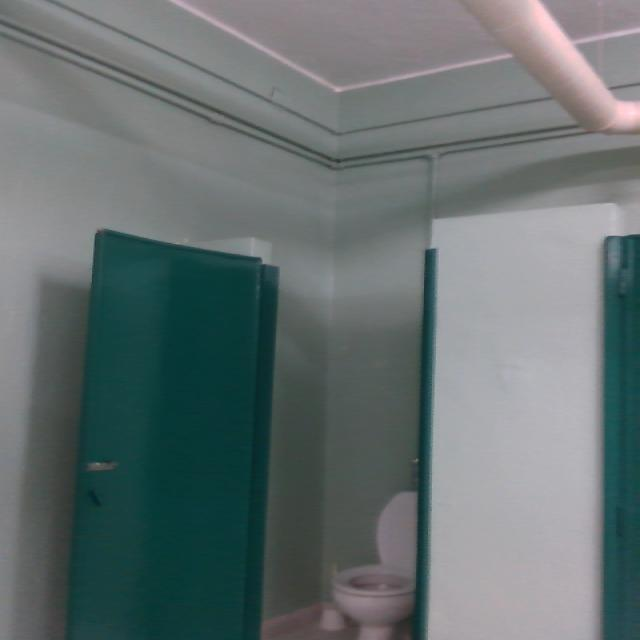door: (66, 228, 435, 638)
